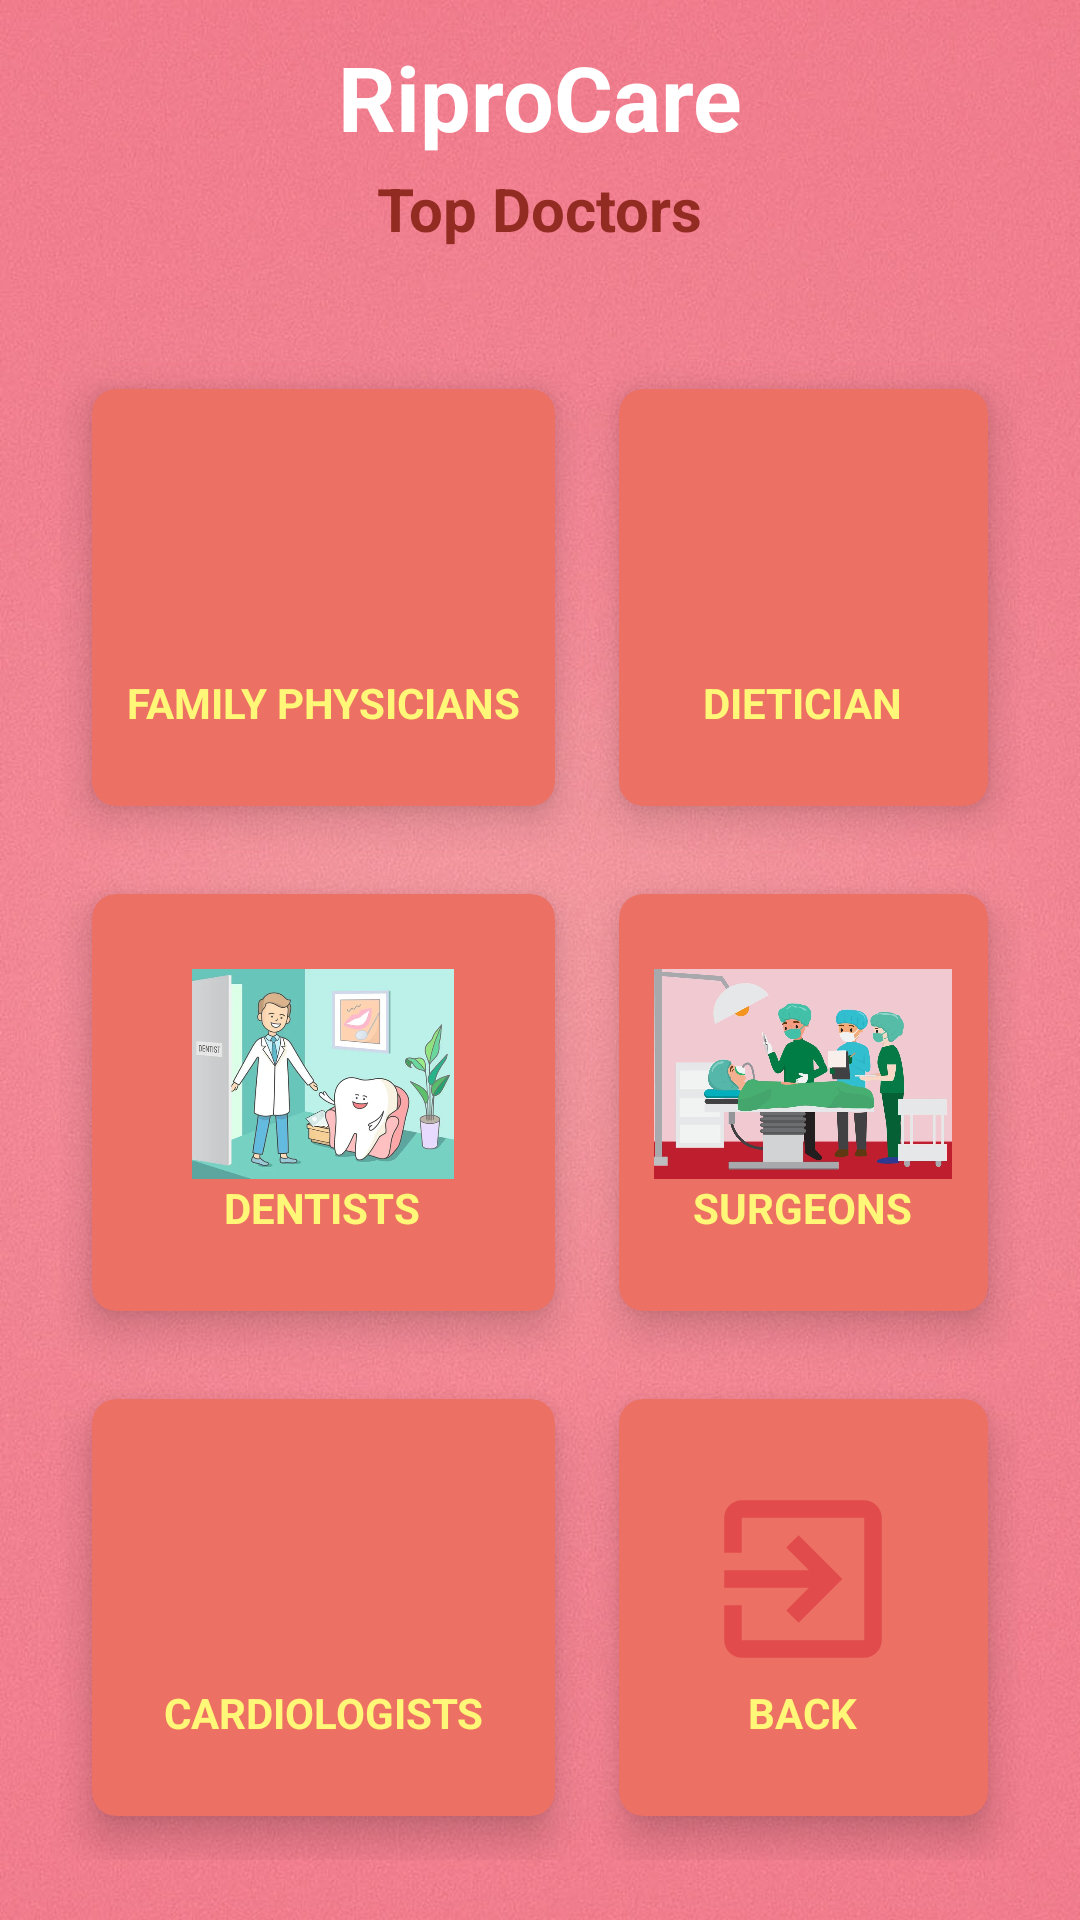

Icon click points for this 1080 × 1920 phone screenshot, format (x=x, y=y):
exit to app: (x=803, y=1579)
